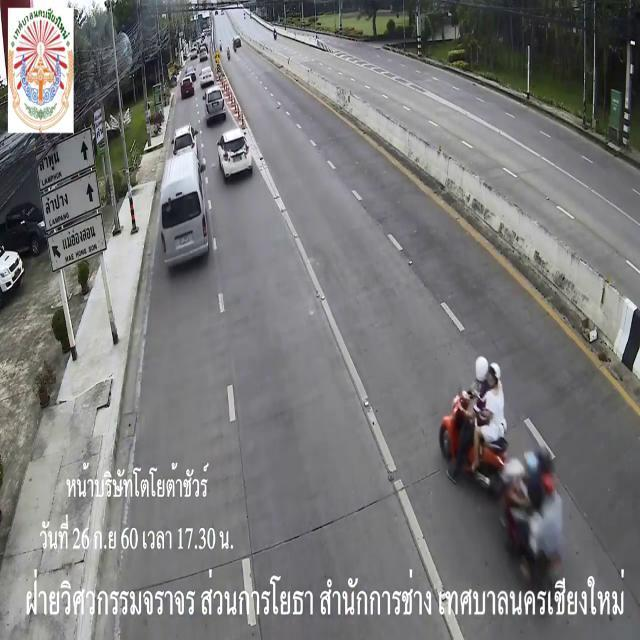non-accident: (438, 354, 566, 598), (159, 125, 209, 271), (180, 66, 196, 100), (189, 44, 207, 62)
